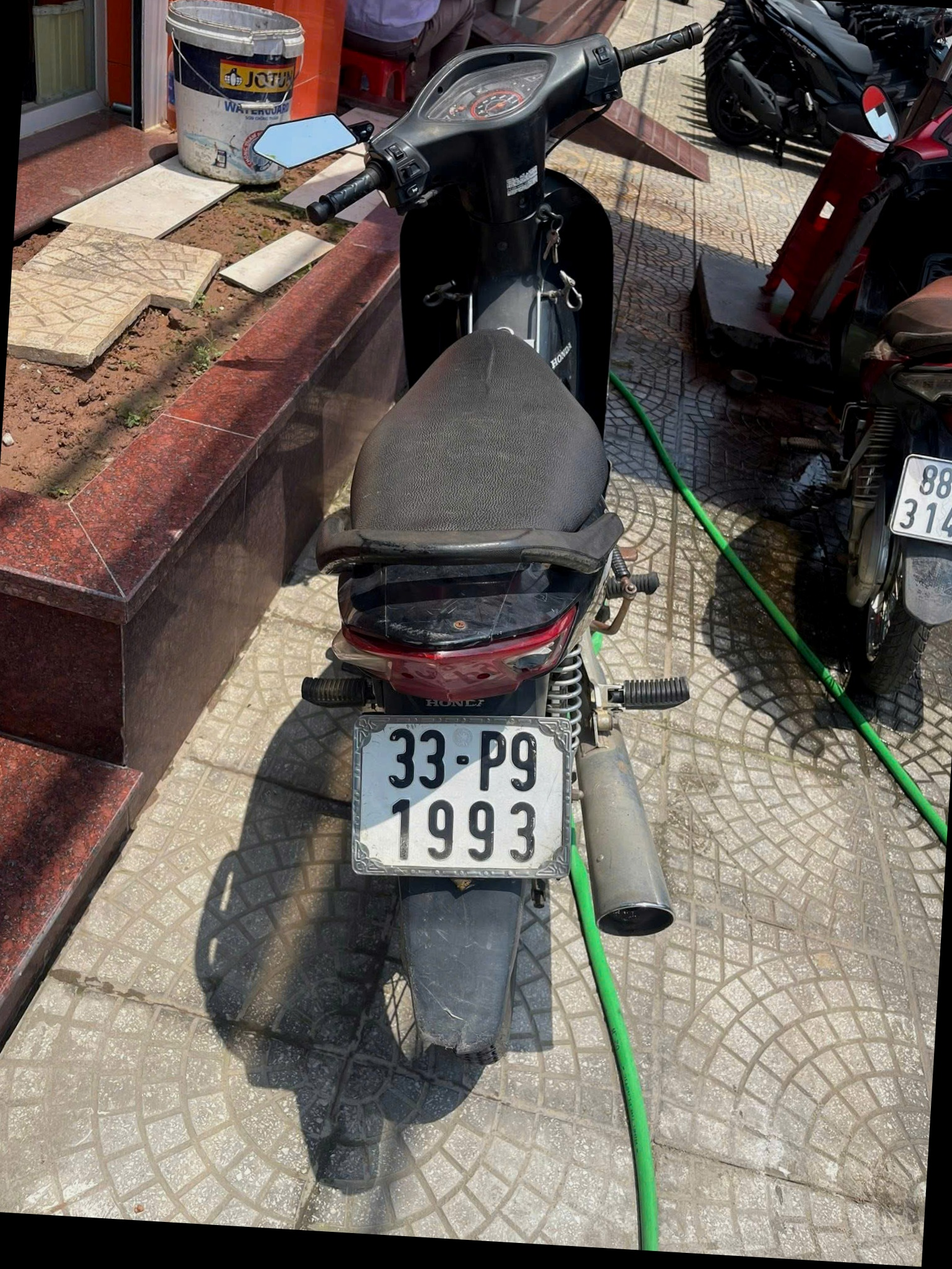Bien-so: (350, 708, 582, 891), (888, 448, 952, 547)
